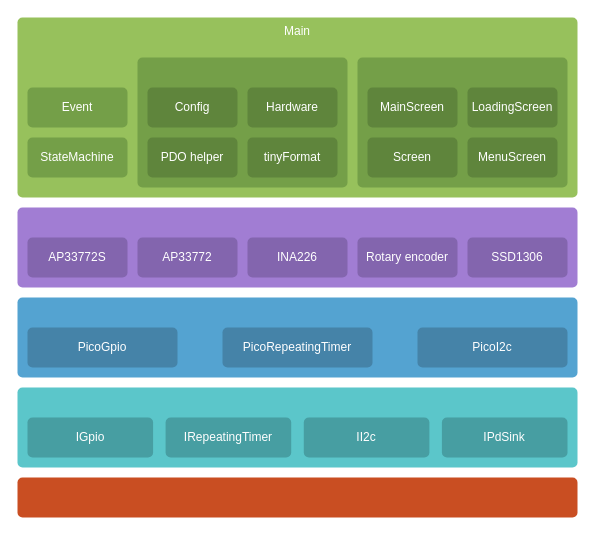
Image size: 594x534. Some labels were removed from this diagram. Each missing label, with the box of its shape:
Drivers: (17, 207, 577, 287)
GUI: (357, 57, 567, 187)
Hardware Abstraction Layer (HAL): (17, 387, 577, 467)
Pico HAL: (17, 297, 577, 377)
Pico SDK: (17, 477, 577, 517)
Utils: (137, 57, 347, 187)
